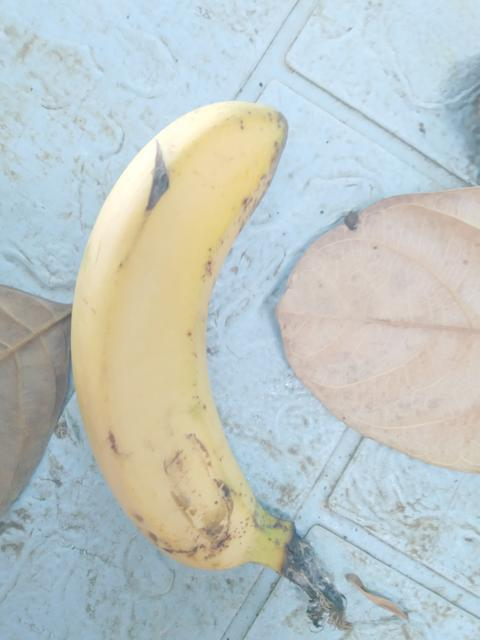ripe: (41, 84, 312, 560)
